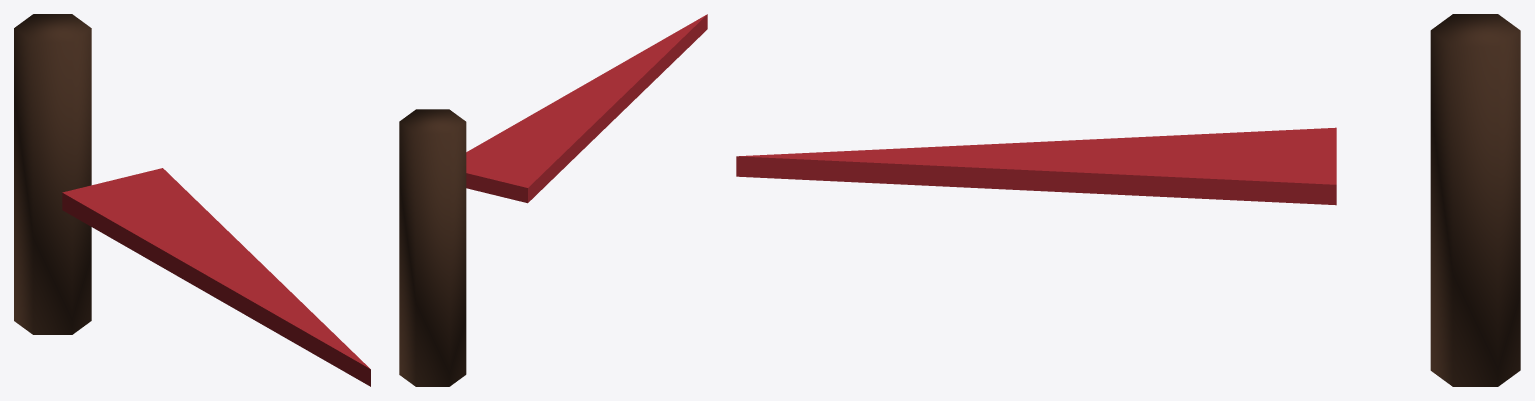
Rendered from vampire_knives.glb.
3 renders of one model, left to right at view 1: azimuth 30°, elevation 25°; view 2: azimuth 150°, elevation 25°; view 3: azimuth 270°, elevation 25°, orthographic. The views are drawn at different scales.
Parts seen in each view (by area): view 1: vampire_knives_v0; view 2: vampire_knives_v0; view 3: vampire_knives_v0.
Boxes of the visible parts, x1,y1,x2,y2 form: vampire_knives_v0: (14, 14, 370, 386); vampire_knives_v0: (399, 14, 707, 386); vampire_knives_v0: (736, 14, 1520, 386).
Size of the model in its own units: 0.036 by 0.1 by 0.209.
